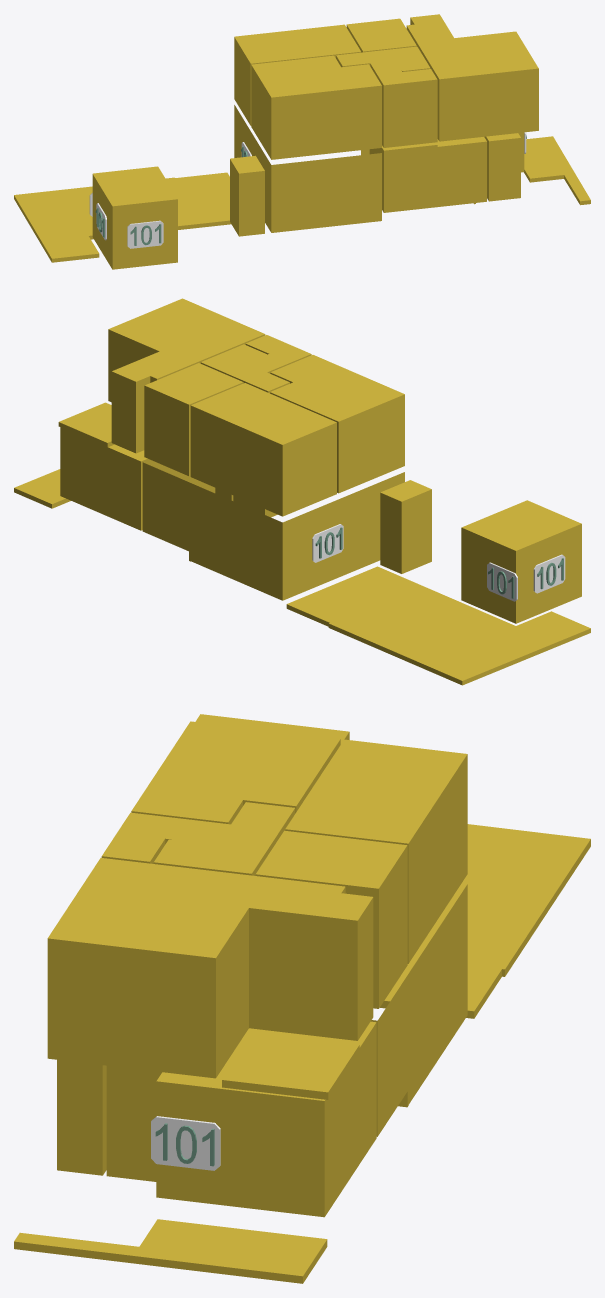
3 views of the same model, one above another, from view 1: azimuth 30°, elevation 25°; view 2: azimuth 150°, elevation 25°; view 3: azimuth 270°, elevation 25° (orthographic). The views are drawn at different scales.
Visible parts, largest first — view 1: g_6, g_10, g_1, g_13, g_2, g_5, g_7, g_11, g_4, g_3, g_14, g_9 (+2 smaller); view 2: g_1, g_13, g_7, g_10, g_5, g_6, g_0, g_9, g_4, g_8, g_12, g_14 (+4 smaller); view 3: g_10, g_0, g_7, g_13, g_6, g_1, g_14, g_9, g_12, g_8, g_3, g_2 (+3 smaller).
Boxes of the visible parts, left/top/right/bottom form: g_6: left=251, top=55, right=381, bottom=159; g_10: left=406, top=14, right=538, bottom=141; g_1: left=234, top=105, right=381, bottom=232; g_13: left=14, top=172, right=230, bottom=262; g_2: left=369, top=137, right=486, bottom=212; g_5: left=92, top=166, right=177, bottom=269; g_7: left=234, top=24, right=361, bottom=125; g_11: left=376, top=69, right=437, bottom=147; g_4: left=230, top=155, right=264, bottom=236; g_3: left=484, top=133, right=520, bottom=201; g_14: left=524, top=136, right=590, bottom=205; g_9: left=346, top=18, right=416, bottom=52; g_1: left=142, top=462, right=404, bottom=600; g_13: left=286, top=566, right=590, bottom=685; g_7: left=190, top=383, right=336, bottom=516; g_10: left=108, top=298, right=265, bottom=453; g_5: left=461, top=500, right=581, bottom=623; g_6: left=270, top=355, right=404, bottom=493; g_0: left=60, top=427, right=215, bottom=530; g_9: left=144, top=363, right=243, bottom=476; g_4: left=380, top=480, right=431, bottom=573; g_8: left=200, top=344, right=289, bottom=393; g_12: left=58, top=402, right=114, bottom=447; g_14: left=14, top=469, right=70, bottom=508; g_10: left=47, top=858, right=373, bottom=1078; g_0: left=156, top=1021, right=376, bottom=1217; g_7: left=285, top=739, right=467, bottom=963; g_13: left=380, top=824, right=590, bottom=1018; g_6: left=131, top=721, right=340, bottom=824; g_1: left=371, top=884, right=467, bottom=1136; g_14: left=14, top=1219, right=327, bottom=1283; g_9: left=255, top=830, right=407, bottom=1008; g_12: left=222, top=1032, right=359, bottom=1099; g_8: left=153, top=802, right=295, bottom=875; g_3: left=57, top=1060, right=106, bottom=1175; g_2: left=106, top=1065, right=162, bottom=1181.
Bounding box in the file's own units: 20.08 × 5.35 × 10.37.
